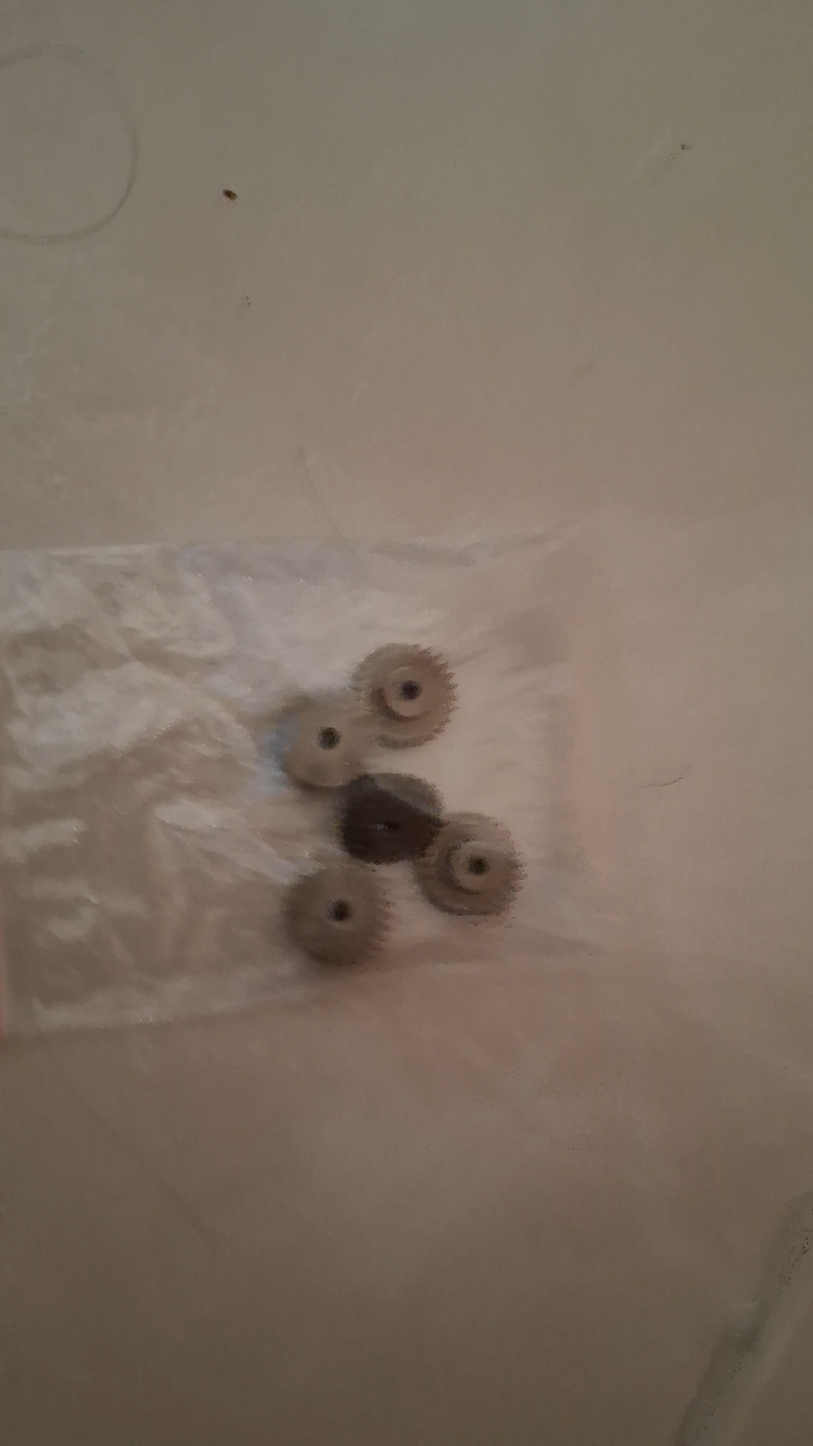spur gear: (283, 860, 388, 964), (415, 813, 521, 915), (354, 645, 454, 746), (338, 773, 442, 863), (280, 692, 373, 788)
